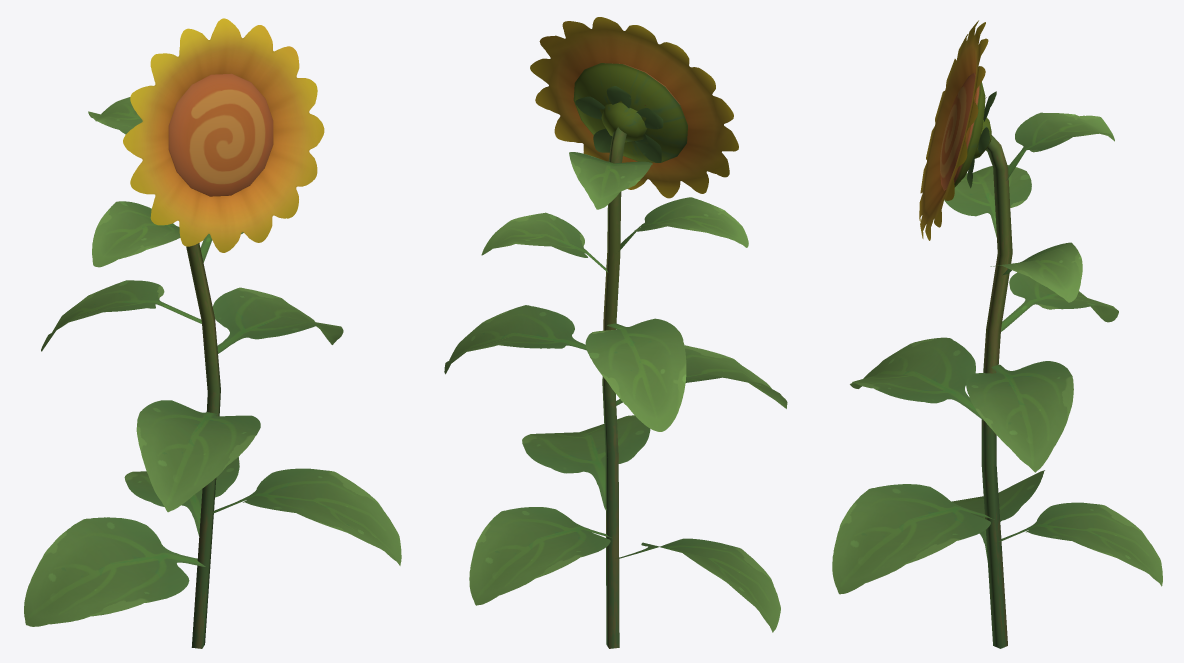
File: m_env_crop_flower_sun_01c.fbx
3 renders of one model, left to right at view 1: azimuth 30°, elevation 25°; view 2: azimuth 150°, elevation 25°; view 3: azimuth 270°, elevation 25°, orthographic. The views are drawn at different scales.
Parts seen in each view (by area): view 1: m_env_crop_flower_sun_01c; view 2: m_env_crop_flower_sun_01c; view 3: m_env_crop_flower_sun_01c.
Boxes of the visible parts, bbox=[...] form: m_env_crop_flower_sun_01c: bbox=[24, 18, 401, 648]; m_env_crop_flower_sun_01c: bbox=[444, 17, 787, 648]; m_env_crop_flower_sun_01c: bbox=[832, 20, 1162, 648].
Size of the model in its own units: 116 by 212 by 107.
